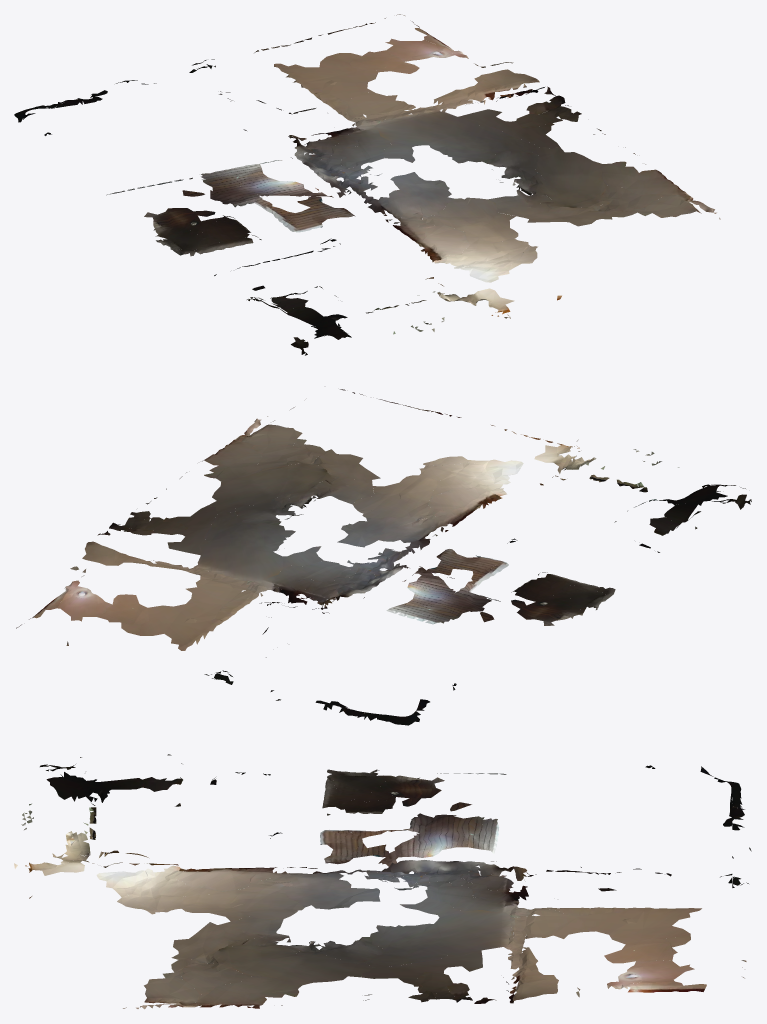
Rendered from esc_sotanos_techo_05.glb.
The picture shows the model from 3 angles, top to bottom: view 1: azimuth 30°, elevation 25°; view 2: azimuth 150°, elevation 25°; view 3: azimuth 270°, elevation 25°; orthographic projection. The views are drawn at different scales.
Visible parts, largest first — view 1: techo_Salon_y_porche_5_GLTF_6, techo_Salon_y_porche_5_GLTF_5, techo_Salon_y_porche_5_GLTF_11, techo_Salon_y_porche_5_GLTF_8, techo_Salon_y_porche_5_GLTF_12, techo_Salon_y_porche_5_GLTF_9, techo_Salon_y_porche_5_GLTF_3, techo_Salon_y_porche_5_GLTF_10, techo_Salon_y_porche_5_GLTF_7, techo_Salon_y_porche_5_GLTF_4, techo_Salon_y_porche_5_GLTF_2, techo_Salon_y_porche_5_GLTF_13 (+2 smaller); view 2: techo_Salon_y_porche_5_GLTF_6, techo_Salon_y_porche_5_GLTF_5, techo_Salon_y_porche_5_GLTF_11, techo_Salon_y_porche_5_GLTF_3, techo_Salon_y_porche_5_GLTF_8, techo_Salon_y_porche_5_GLTF_9, techo_Salon_y_porche_5_GLTF_12, techo_Salon_y_porche_5_GLTF_10, techo_Salon_y_porche_5_GLTF_7, techo_Salon_y_porche_5_GLTF_4, techo_Salon_y_porche_5_GLTF_2, techo_Salon_y_porche_5_GLTF_13 (+2 smaller); view 3: techo_Salon_y_porche_5_GLTF_6, techo_Salon_y_porche_5_GLTF_5, techo_Salon_y_porche_5_GLTF_12, techo_Salon_y_porche_5_GLTF_11, techo_Salon_y_porche_5_GLTF_8, techo_Salon_y_porche_5_GLTF_3, techo_Salon_y_porche_5_GLTF_9, techo_Salon_y_porche_5_GLTF_10, techo_Salon_y_porche_5_GLTF_7, techo_Salon_y_porche_5_GLTF_4, techo_Salon_y_porche_5_GLTF_2, techo_Salon_y_porche_5_GLTF_13 (+2 smaller).
Boxes of the visible parts, x1=… form: techo_Salon_y_porche_5_GLTF_6: x1=60, y1=50, x2=536, y2=334; techo_Salon_y_porche_5_GLTF_5: x1=274, y1=57, x2=635, y2=339; techo_Salon_y_porche_5_GLTF_11: x1=46, y1=81, x2=651, y2=316; techo_Salon_y_porche_5_GLTF_8: x1=202, y1=18, x2=625, y2=282; techo_Salon_y_porche_5_GLTF_12: x1=155, y1=64, x2=720, y2=316; techo_Salon_y_porche_5_GLTF_9: x1=291, y1=38, x2=686, y2=318; techo_Salon_y_porche_5_GLTF_3: x1=14, y1=28, x2=571, y2=331; techo_Salon_y_porche_5_GLTF_10: x1=118, y1=53, x2=663, y2=355; techo_Salon_y_porche_5_GLTF_7: x1=132, y1=80, x2=645, y2=329; techo_Salon_y_porche_5_GLTF_4: x1=319, y1=14, x2=518, y2=288; techo_Salon_y_porche_5_GLTF_2: x1=144, y1=59, x2=492, y2=324; techo_Salon_y_porche_5_GLTF_13: x1=44, y1=133, x2=561, y2=305; techo_Salon_y_porche_5_GLTF_6: x1=97, y1=429, x2=679, y2=714; techo_Salon_y_porche_5_GLTF_5: x1=82, y1=399, x2=727, y2=650; techo_Salon_y_porche_5_GLTF_11: x1=97, y1=389, x2=736, y2=685; techo_Salon_y_porche_5_GLTF_3: x1=32, y1=453, x2=661, y2=725; techo_Salon_y_porche_5_GLTF_8: x1=82, y1=456, x2=557, y2=619; techo_Salon_y_porche_5_GLTF_9: x1=57, y1=405, x2=609, y2=621; techo_Salon_y_porche_5_GLTF_12: x1=163, y1=416, x2=660, y2=684; techo_Salon_y_porche_5_GLTF_10: x1=121, y1=444, x2=751, y2=635; techo_Salon_y_porche_5_GLTF_7: x1=202, y1=460, x2=658, y2=700; techo_Salon_y_porche_5_GLTF_4: x1=16, y1=475, x2=616, y2=628; techo_Salon_y_porche_5_GLTF_2: x1=153, y1=449, x2=745, y2=679; techo_Salon_y_porche_5_GLTF_13: x1=234, y1=431, x2=697, y2=690; techo_Salon_y_porche_5_GLTF_6: x1=29, y1=772, x2=744, y2=968; techo_Salon_y_porche_5_GLTF_5: x1=46, y1=772, x2=701, y2=1002; techo_Salon_y_porche_5_GLTF_12: x1=14, y1=773, x2=740, y2=1009; techo_Salon_y_porche_5_GLTF_11: x1=83, y1=763, x2=652, y2=1003; techo_Salon_y_porche_5_GLTF_8: x1=91, y1=799, x2=744, y2=1003; techo_Salon_y_porche_5_GLTF_3: x1=24, y1=766, x2=744, y2=1000; techo_Salon_y_porche_5_GLTF_9: x1=89, y1=827, x2=694, y2=1008; techo_Salon_y_porche_5_GLTF_10: x1=22, y1=757, x2=690, y2=994; techo_Salon_y_porche_5_GLTF_7: x1=27, y1=798, x2=751, y2=1005; techo_Salon_y_porche_5_GLTF_4: x1=175, y1=803, x2=413, y2=921; techo_Salon_y_porche_5_GLTF_2: x1=21, y1=764, x2=748, y2=902; techo_Salon_y_porche_5_GLTF_13: x1=29, y1=754, x2=655, y2=963.
Bounding box in the file's own units: 8.28 × 0.3296 × 10.69.
14 materials, 14 textured.
